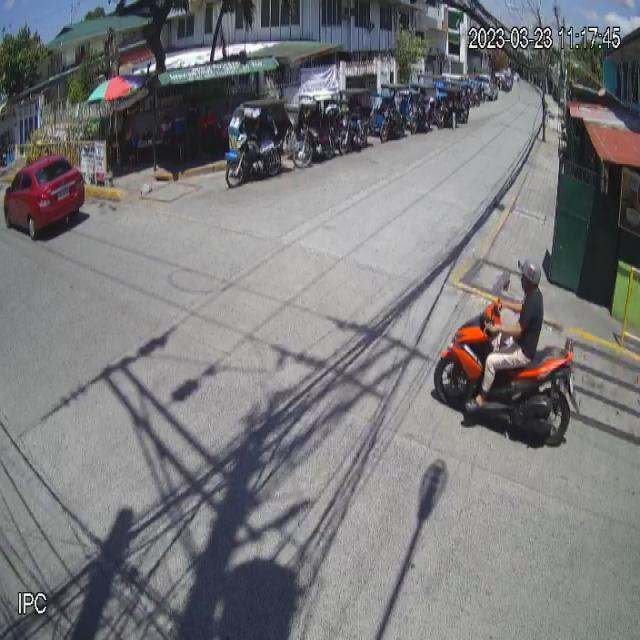Car: (4, 154, 86, 240)
Motorcycle: (434, 279, 580, 450)
